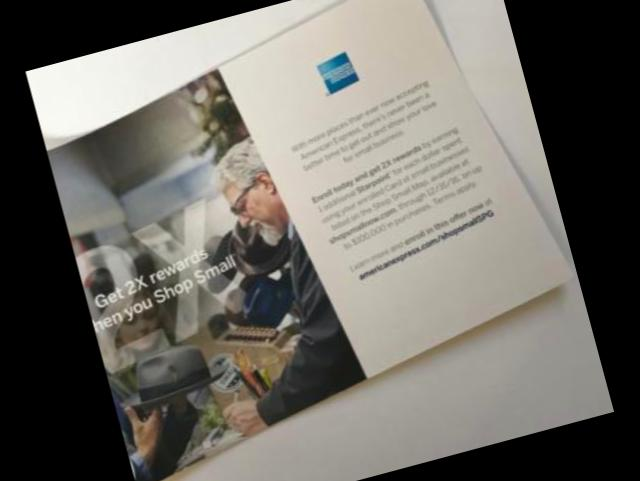cardboard paper: (47, 0, 571, 481)
